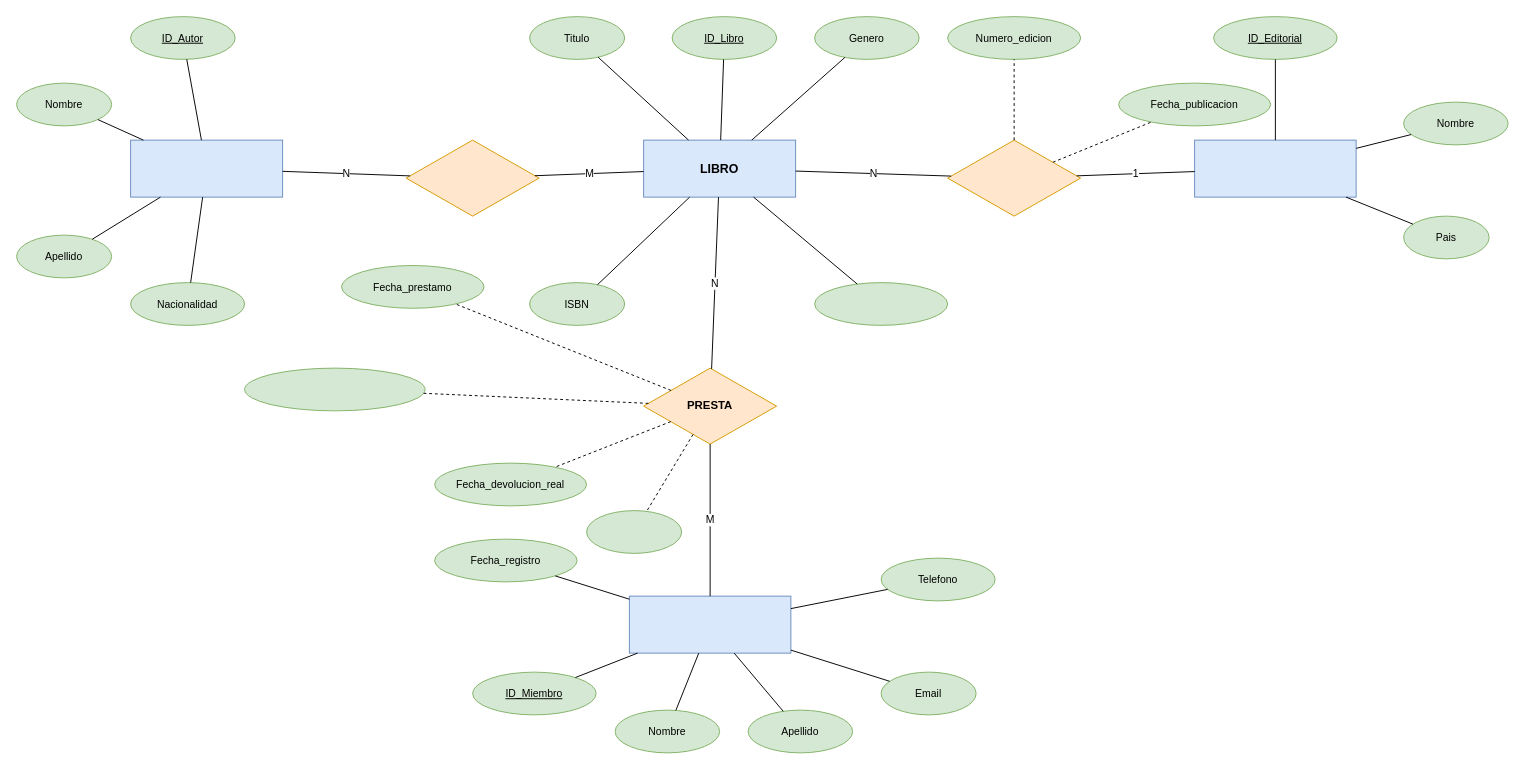
Some shapes in this 1525 by 770 pixel diagram are drawn without their labels. The centre of each missing label's shape, as x and y in pixels:
AUTOR: the point at 206,168
Disponibilidad: the point at 881,303
EDITORIAL: the point at 1275,168
ESCRIBE: the point at 472,177
Estado: the point at 634,531
Fecha_devolucion_esperada: the point at 334,389
MIEMBRO: the point at 709,624
PUBLICA: the point at 1014,177
